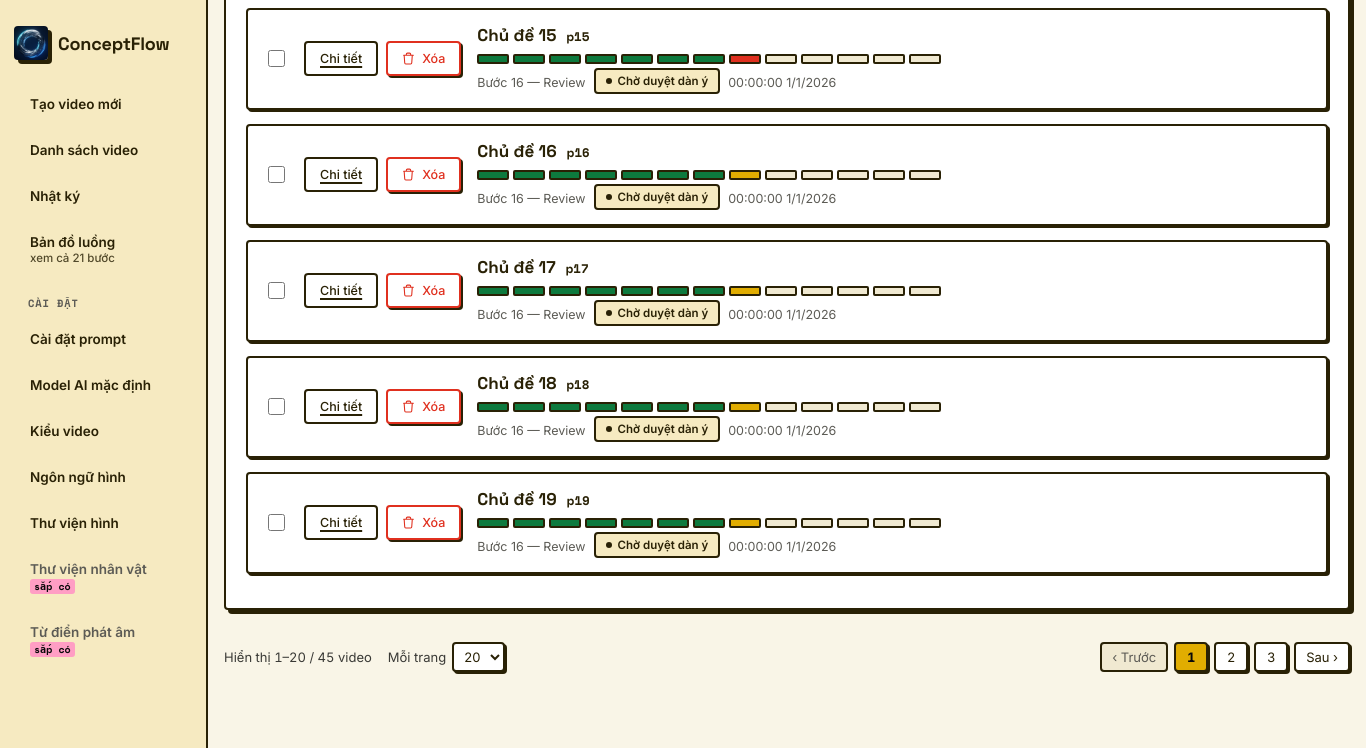
Test: VideoListPage › phân trang › goes back to page 1 when the Creator picks another chip
(page scrolled)
Click the button with test id "pagination-page-3" at (1271, 657), box [1254,642,1288,672]
(page scrolled)
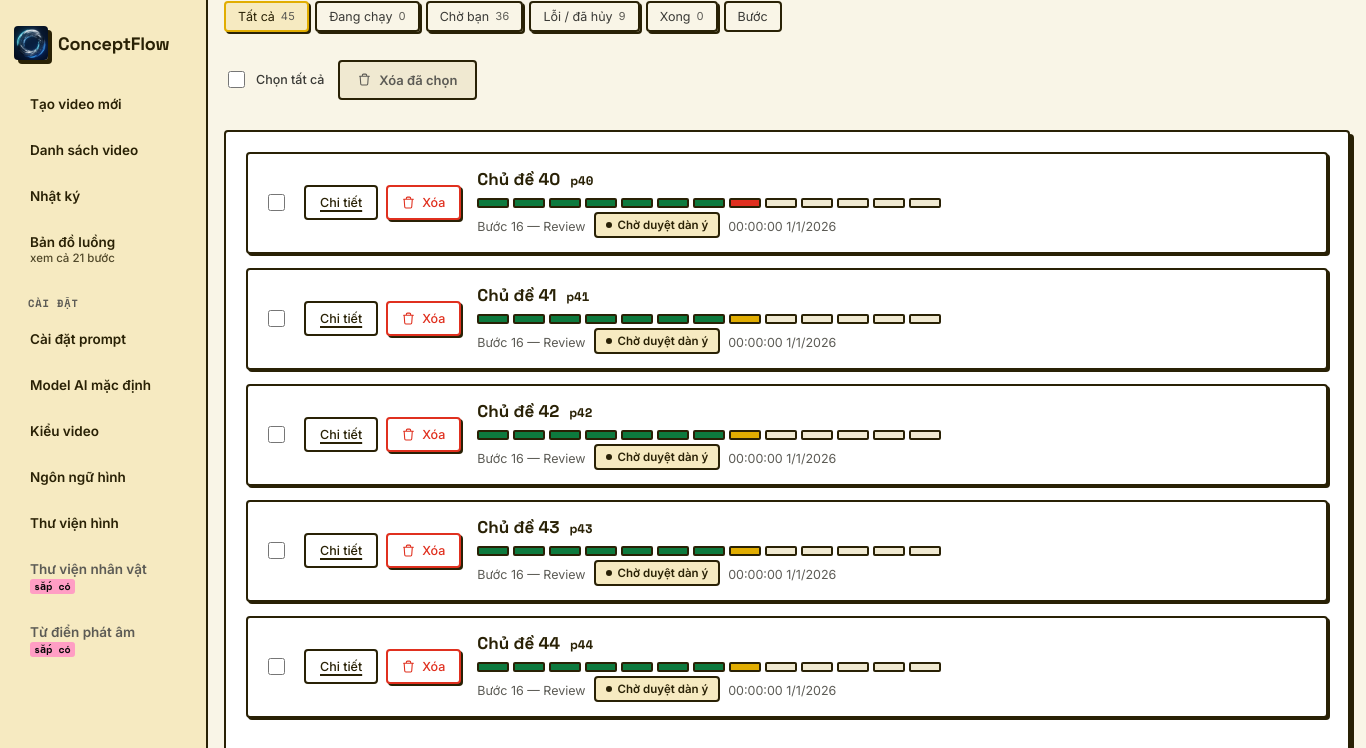
Expected: the element with test id "video-row-p40" is shown, [246,152,1328,254]
Click the tab with test id "filter-waiting" at (474, 16), box [426,1,523,32]
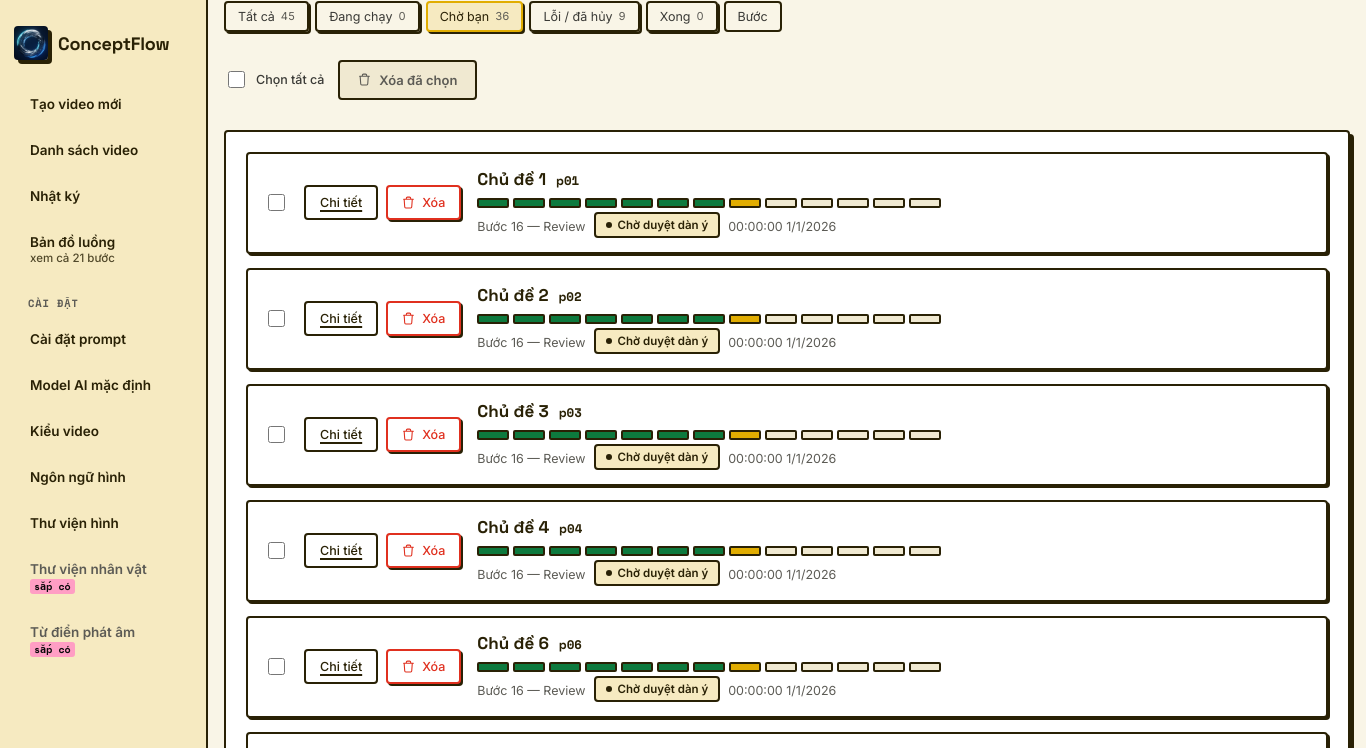
Expected: the element with test id "video-row-p01" is shown, [246,152,1328,254]
